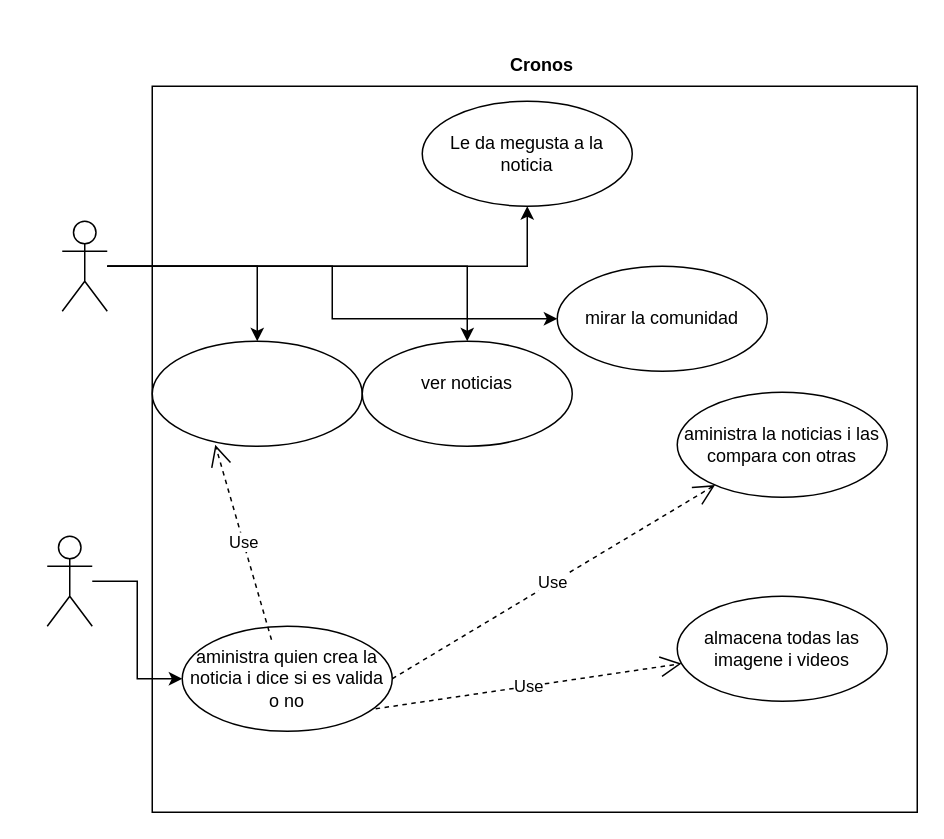
This 944x839 diagram has some shape labels left out. The shapes that lost their labels are listed below. From the top down, each one's centre as x and y in pixels, then its label:
At point 84,265: "usuario".
At point 256,393: "crea noticias".
At point 69,580: "moderador".
